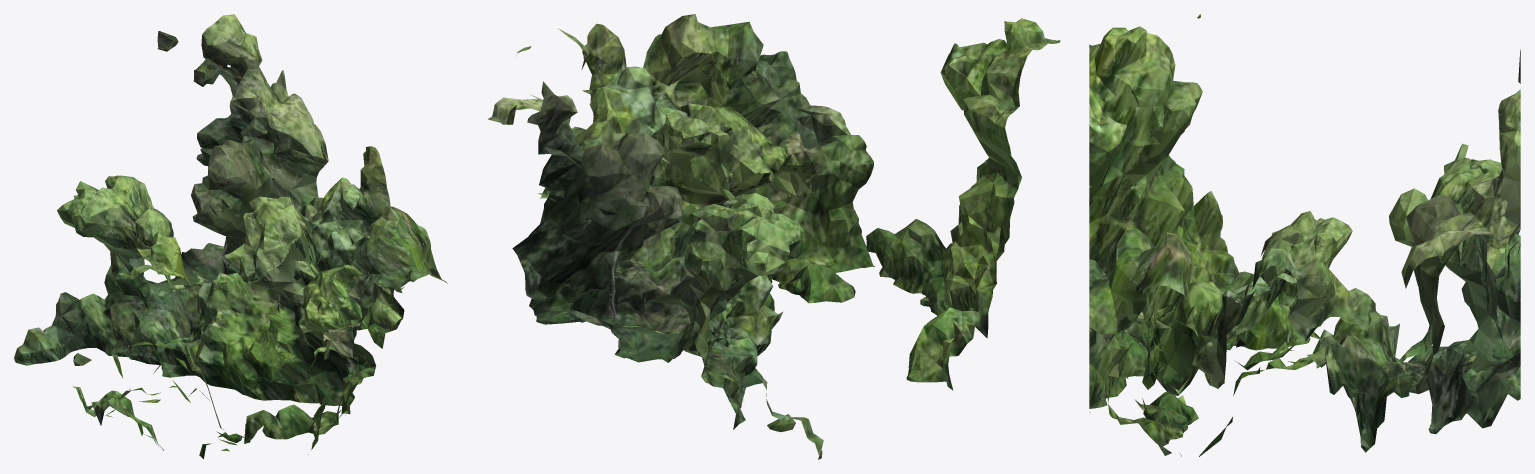
3 renders of one model, left to right at view 1: azimuth 30°, elevation 25°; view 2: azimuth 150°, elevation 25°; view 3: azimuth 270°, elevation 25°, orthographic. The views are drawn at different scales.
Bounding box in the file's own units: 26.11 × 25.1 × 26.11.
Materials: 6 (6 with a texture image).
